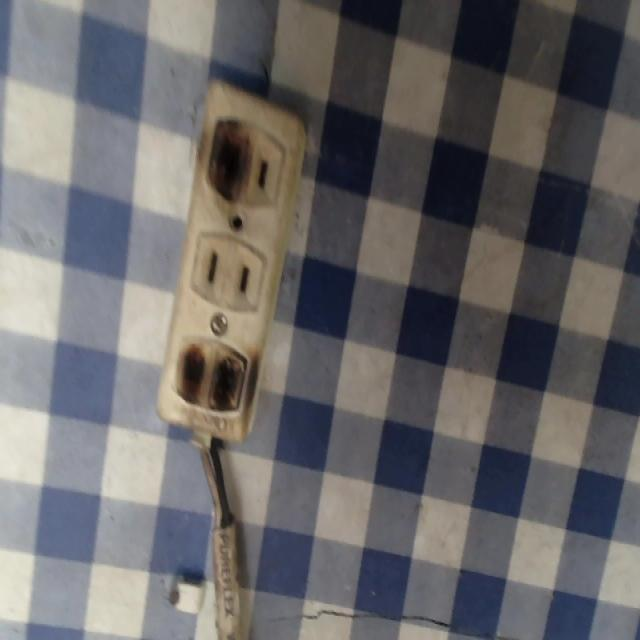-: (171, 333, 260, 432), (202, 113, 254, 215)
